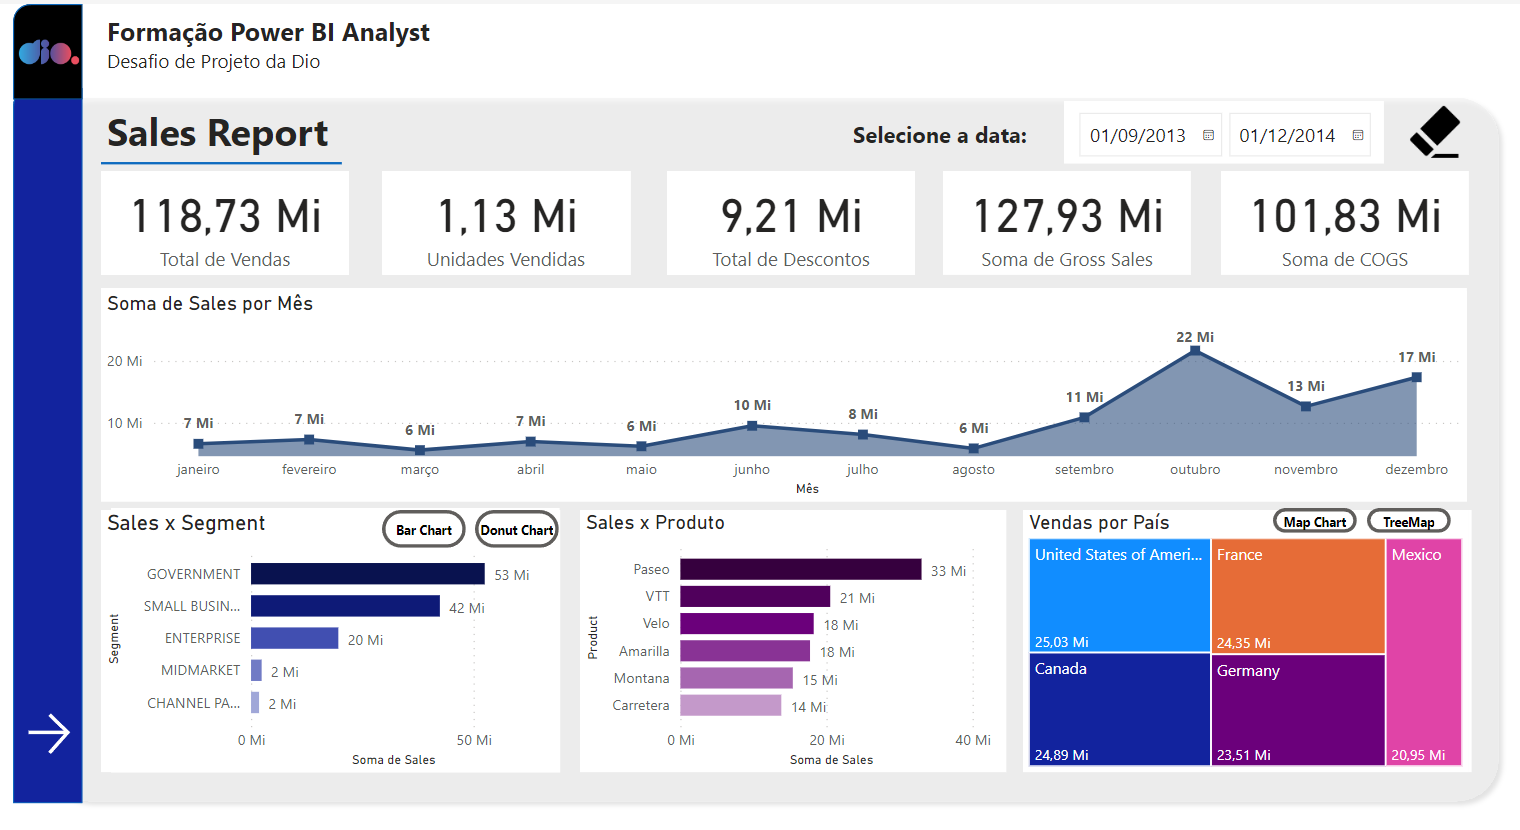

Layout of this report page (visuals, bound fields, positions):
{"tool":"powerbi","page":{"name":"Pagina 1","canvas":[1280,720],"ordinal":0},"visuals":[{"type":"textbox","box":[74.3,0,981.5,70.7],"z":0},{"type":"image","title":"Clean","box":[1176.5,81.5,56.4,54],"z":0,"group":"g2"},{"type":"shape","box":[74.3,114.6,204.2,41.2],"z":0,"group":"g5"},{"type":"shape","box":[74.3,141.5,210.4,87.8],"z":0,"group":"g1"},{"type":"shape","box":[20.6,70.7,1246.6,614.5],"z":1000},{"type":"textbox","box":[74.3,80.6,288.4,53.7],"z":1000,"group":"g5"},{"type":"slicer","fields":{"Values":["financials.Date"]},"box":[890,82,270.9,53],"z":1000,"group":"g2"},{"type":"card","fields":{"Values":["Sum(financials.COGS)"]},"box":[1022.7,141.5,210.4,87.8],"z":1000,"group":"g1"},{"type":"shape","title":"Sales x Segment - Bar","box":[83.3,429,379.7,222.1],"z":1000,"group":"g4"},{"type":"donutChart","title":"Sales x Segment - Donut","fields":{"Y":["Sum(financials.Sales)"],"Category":["financials.Segment"]},"box":[83.4,427,379.9,223.8],"z":1500,"group":"g4"},{"type":"shape","title":"Sales x Country - Bar","box":[856.2,429,379.7,222.1],"z":1500,"group":"g3"},{"type":"shape","box":[0,70.7,59.1,606.3],"z":2000},{"type":"textbox","box":[706.4,84,185.5,54],"z":2000,"group":"g2"},{"type":"shape","box":[312.9,141.5,210.4,87.8],"z":2000,"group":"g1"},{"type":"clusteredBarChart","title":"Sales x Segment","fields":{"Category":["financials.Segment"],"Y":["Sum(financials.Sales)"]},"box":[74.6,429,388.7,221.8],"z":2000,"group":"g4"},{"type":"shape","box":[0,0,59.1,80.6],"z":3000},{"type":"actionButton","box":[1175.4,81.5,56.4,54],"z":3000,"group":"g2"},{"type":"shape","box":[553.4,141.5,210.4,87.8],"z":3000,"group":"g1"},{"type":"actionButton","title":"Botão - Donut","box":[391.5,429,71,32.5],"z":3000,"group":"g4"},{"type":"map","title":"Sales x Country ","fields":{"Category":["financials.Country"],"Size":["Sum(financials.Sales)"]},"box":[856.2,429,377,222.1],"z":3000,"group":"g3"},{"type":"treemap","title":"Vendas por País ","fields":{"Group":["financials.Country"],"Values":["Sum(financials.Sales)"]},"box":[856,429,376.9,221.8],"z":3750,"group":"g3"},{"type":"image","box":[0,9.9,60.9,60.9],"z":4000},{"type":"card","fields":{"Values":["Sum(financials.Gross Sales)"]},"box":[787.1,141.5,210.4,87.8],"z":4000,"group":"g1"},{"type":"actionButton","title":"Botão - Bar Chart","box":[312.4,429,71,32.5],"z":4000,"group":"g4"},{"type":"actionButton","title":"Botão - Map","box":[1068.1,427,71,21.3],"z":4500,"group":"g3"},{"type":"group","id":"g1","title":"Cartões","box":[74.3,141.5,1158.8,87.8],"z":5000},{"type":"card","fields":{"Values":["Sum(financials.Discounts)"]},"box":[553.4,141.5,210.4,87.8],"z":5000,"group":"g1"},{"type":"actionButton","title":"Botão - TreeMap","box":[1147.2,427,71,21.3],"z":5000,"group":"g3"},{"type":"card","fields":{"Values":["Sum(financials.Units Sold)"]},"box":[312.5,141.5,210.4,87.8],"z":6000,"group":"g1"},{"type":"shape","box":[74.6,240.5,1157.3,180.6],"z":6000},{"type":"areaChart","fields":{"Category":["financials.Date.Variation.Hierarquia de datas.Mês"],"Y":["Sum(financials.Sales)"]},"box":[74.6,243.4,1157.3,177.7],"z":7000},{"type":"card","fields":{"Values":["Sum(financials.Sales)"]},"box":[74.3,141.5,210.4,87.8],"z":8000,"group":"g1"},{"type":"shape","box":[480,429,360.9,222.1],"z":8000},{"type":"clusteredBarChart","title":"Sales x Produto ","fields":{"Y":["Sum(financials.Sales)"],"Category":["financials.Product"]},"box":[480,429,360.9,222.1],"z":9000},{"type":"group","id":"g2","title":"Filtro por data","box":[706.4,81.5,526.5,56.5],"z":10000},{"type":"group","id":"g3","title":"Sales x Country","box":[856,427,379.9,224],"z":11000},{"type":"group","id":"g4","title":"Sales x Segment","box":[74.6,427,388.7,224.1],"z":12000},{"type":"group","id":"g5","title":"Title Report","box":[74.3,80.6,288.4,75.2],"z":13000},{"type":"actionButton","box":[7.1,594.4,45.6,46.7],"z":14000}]}

Visuals, with their boxes on the page's 1280x720 design canvas (x1, y1, x2, y2). These are canvas units, not pixel positions in the 1520x830 screenshot, which may show the page scaled, cropped or inside an application window:
textbox: 74, 0, 1056, 71
"Clean" image: 1176, 82, 1233, 136
shape: 74, 115, 278, 156
shape: 74, 142, 285, 229
shape: 21, 71, 1267, 685
textbox: 74, 81, 363, 134
slicer - financials.Date: 890, 82, 1161, 135
card - Sum(financials.COGS): 1023, 142, 1233, 229
"Sales x Segment - Bar" shape: 83, 429, 463, 651
"Sales x Segment - Donut" donutChart: 83, 427, 463, 651
"Sales x Country - Bar" shape: 856, 429, 1236, 651
shape: 0, 71, 59, 677
textbox: 706, 84, 892, 138
shape: 313, 142, 523, 229
"Sales x Segment" clusteredBarChart: 75, 429, 463, 651
shape: 0, 0, 59, 81
actionButton: 1175, 82, 1232, 136
shape: 553, 142, 764, 229
"Botão - Donut" actionButton: 392, 429, 462, 462
"Sales x Country " map: 856, 429, 1233, 651
"Vendas por País " treemap: 856, 429, 1233, 651
image: 0, 10, 61, 71
card - Sum(financials.Gross Sales): 787, 142, 998, 229
"Botão - Bar Chart" actionButton: 312, 429, 383, 462
"Botão - Map" actionButton: 1068, 427, 1139, 448
"Cartões" group: 74, 142, 1233, 229
card - Sum(financials.Discounts): 553, 142, 764, 229
"Botão - TreeMap" actionButton: 1147, 427, 1218, 448
card - Sum(financials.Units Sold): 312, 142, 523, 229
shape: 75, 240, 1232, 421
areaChart - financials.Date.Variation.Hierarquia de datas.Mês x Sum(financials.Sales): 75, 243, 1232, 421
card - Sum(financials.Sales): 74, 142, 285, 229
shape: 480, 429, 841, 651
"Sales x Produto " clusteredBarChart: 480, 429, 841, 651
"Filtro por data" group: 706, 82, 1233, 138
"Sales x Country" group: 856, 427, 1236, 651
"Sales x Segment" group: 75, 427, 463, 651
"Title Report" group: 74, 81, 363, 156
actionButton: 7, 594, 53, 641
